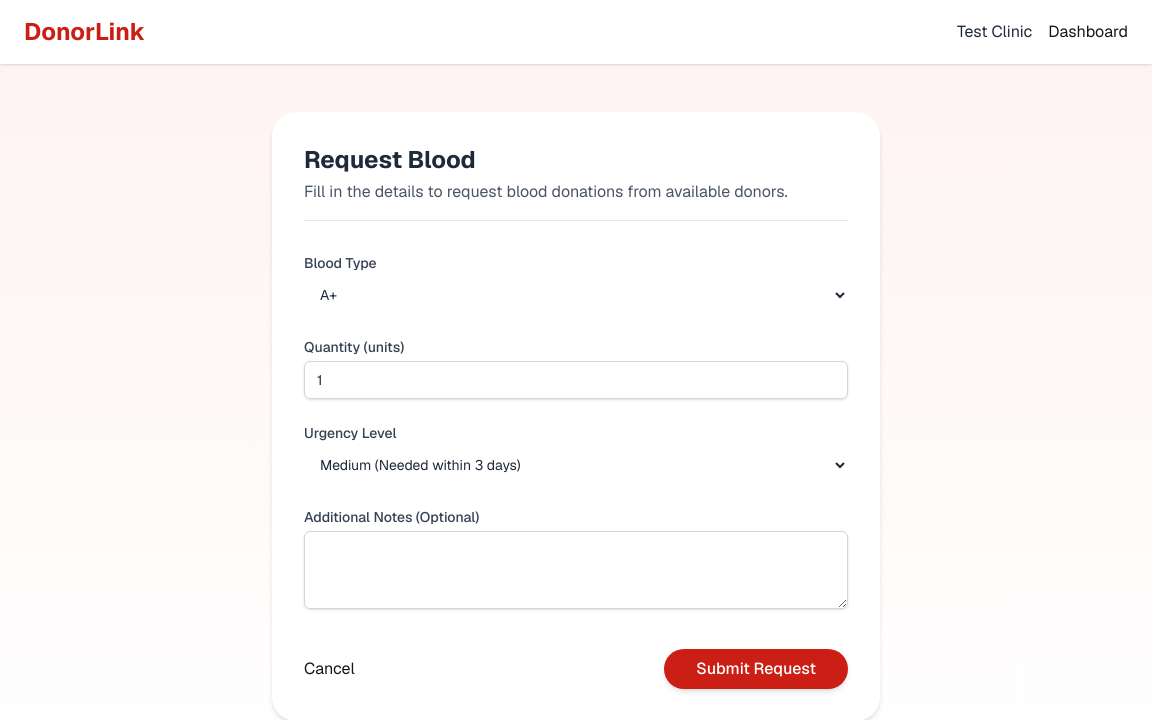
Test: RequestBloodPage › handles invalid response format
This screenshot has width=1152, height=720.
Submit the form with default values
Click the button "Submit Request" at [756, 669], box [664,649,848,689]
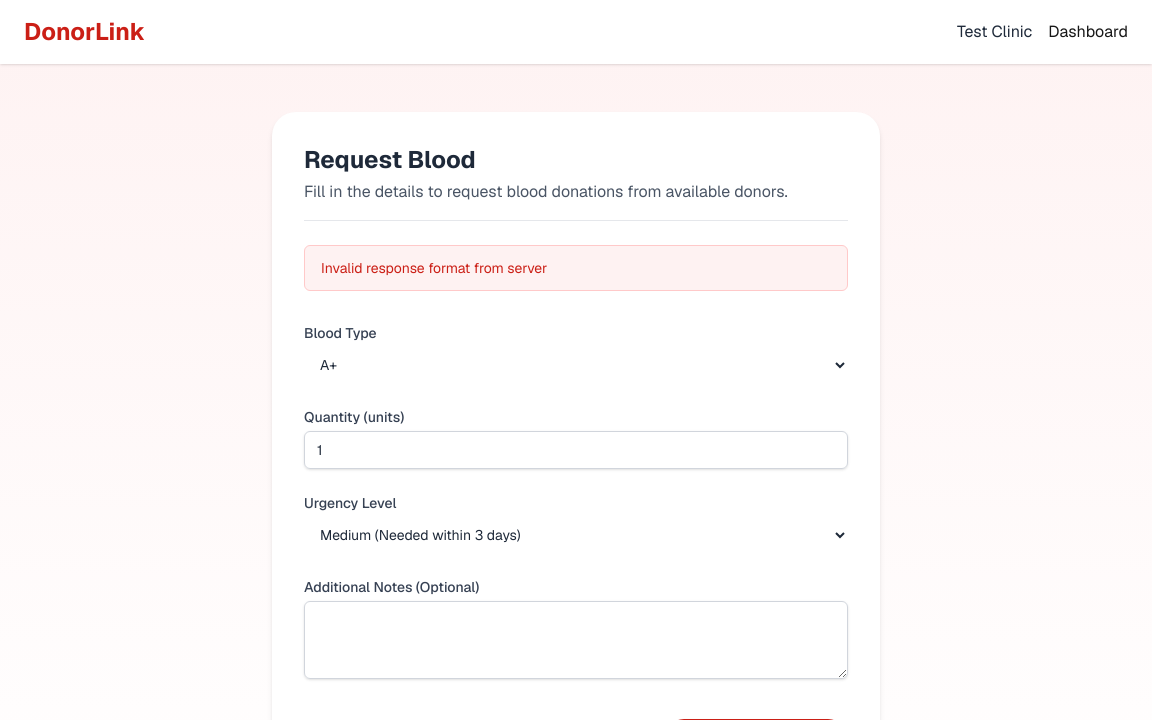
Expected: the text "Invalid response format from server" is shown, [304,245,848,291]
